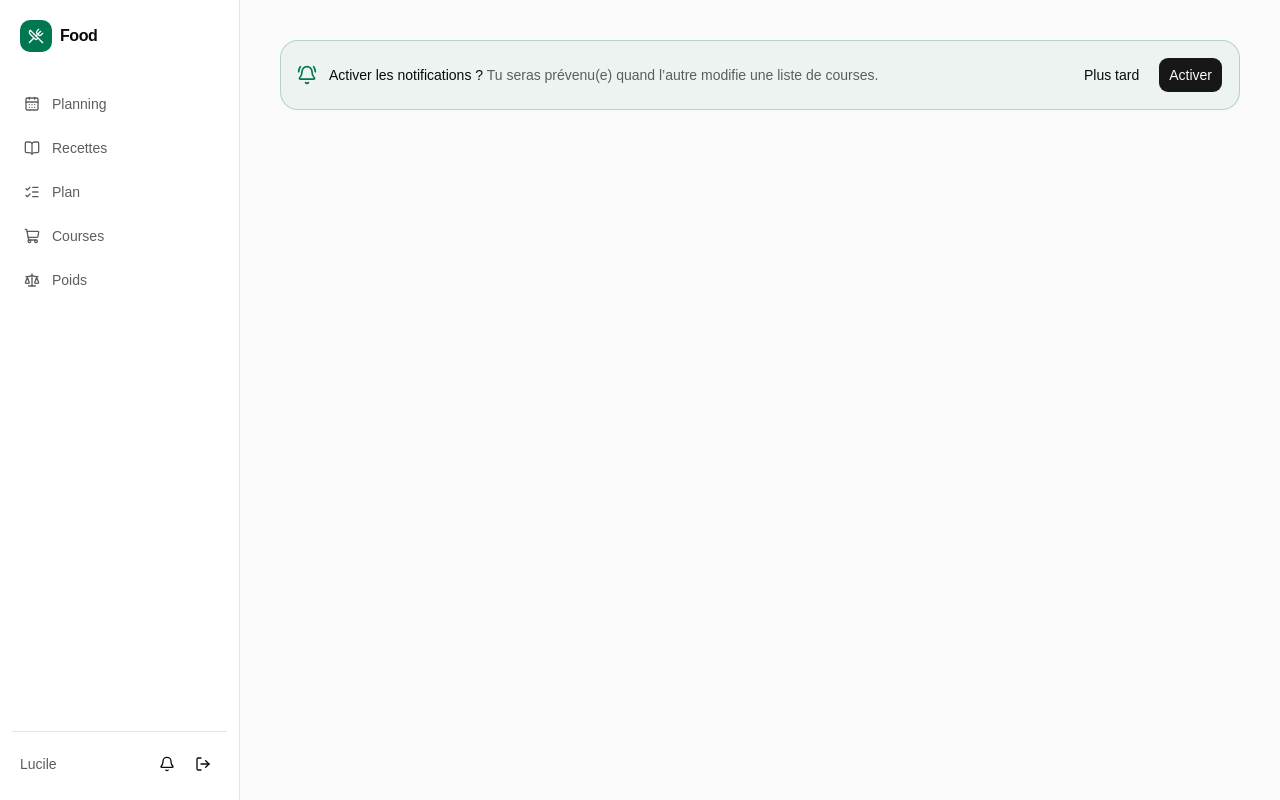
Test: notifications de l’application › passe à « bloquées » si l’autorisation est refusée au moment d’activer
Click the button "Activer" at (1191, 75), box [1158,57,1223,93]
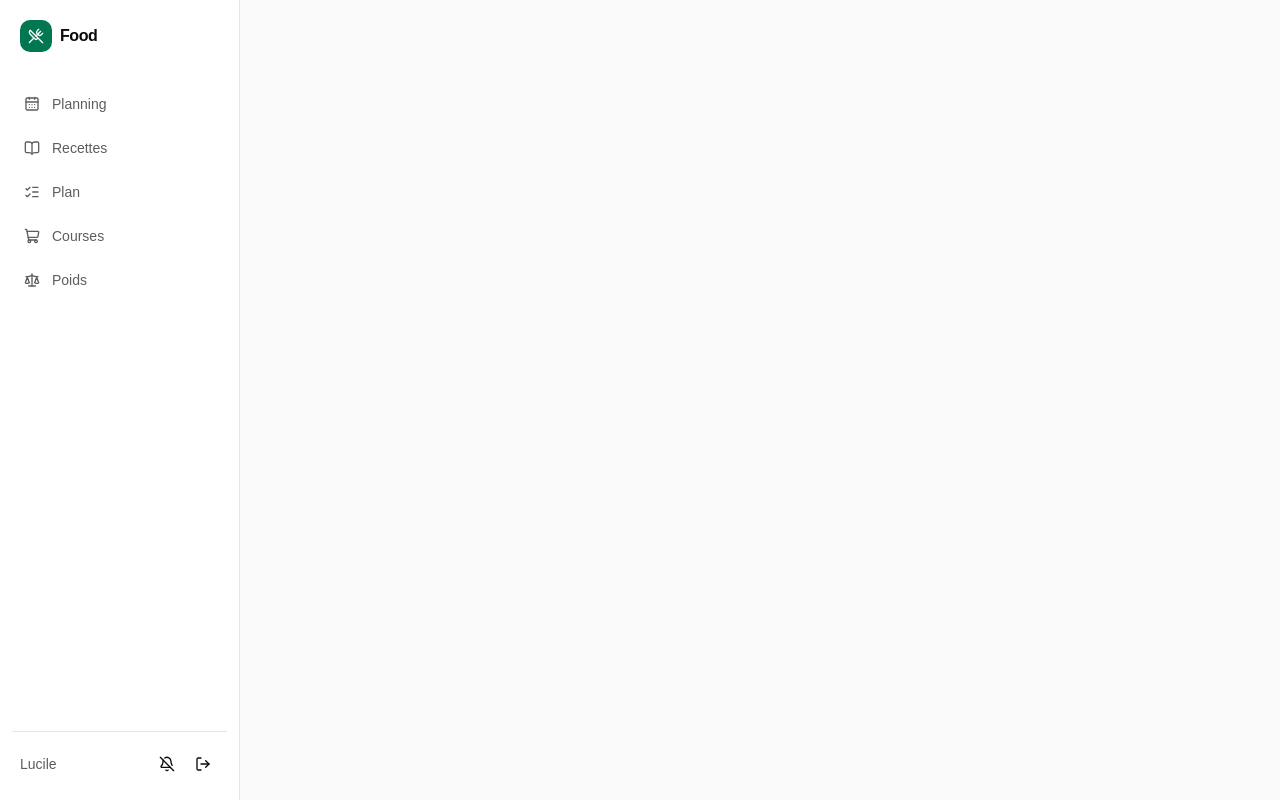
Click the button named "Notifications" at (167, 764), box [151,748,183,780]
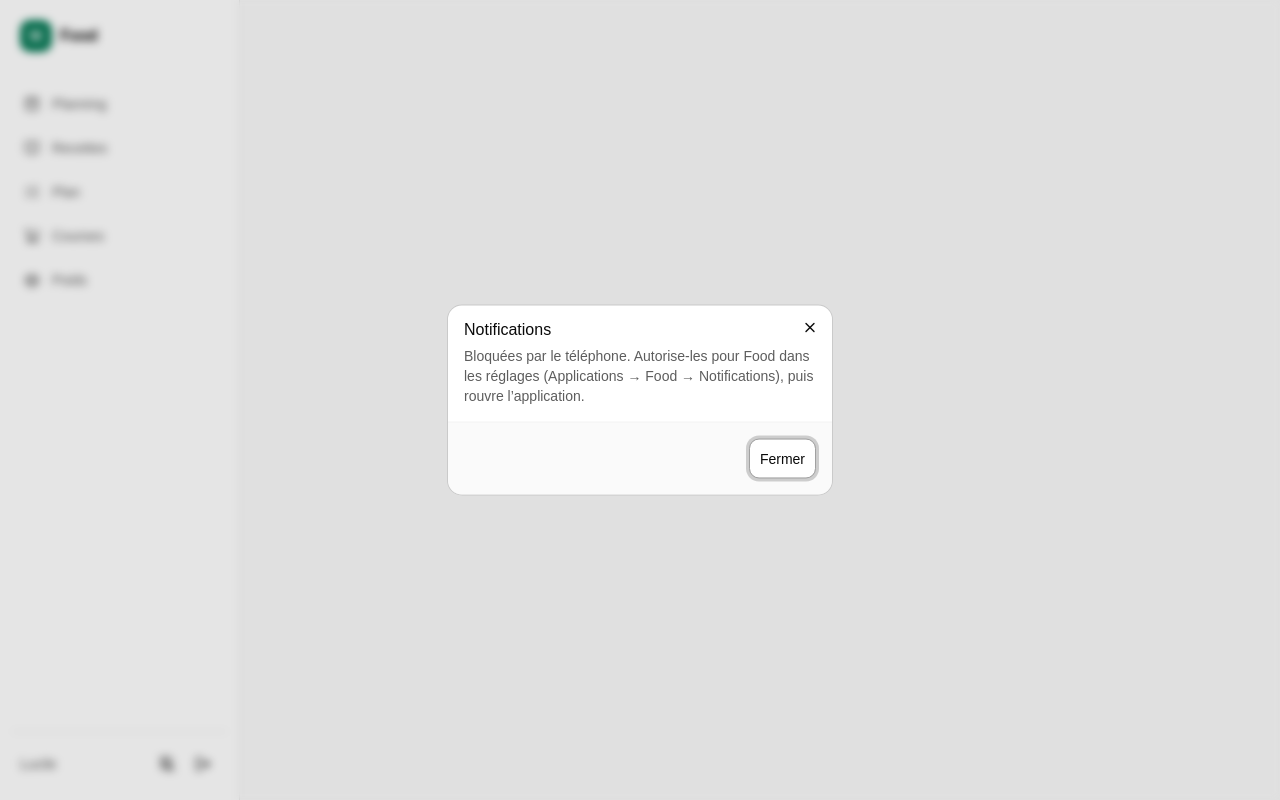
Result: the dialog shows "Bloquées par le téléphone" at [464,348,813,404]
